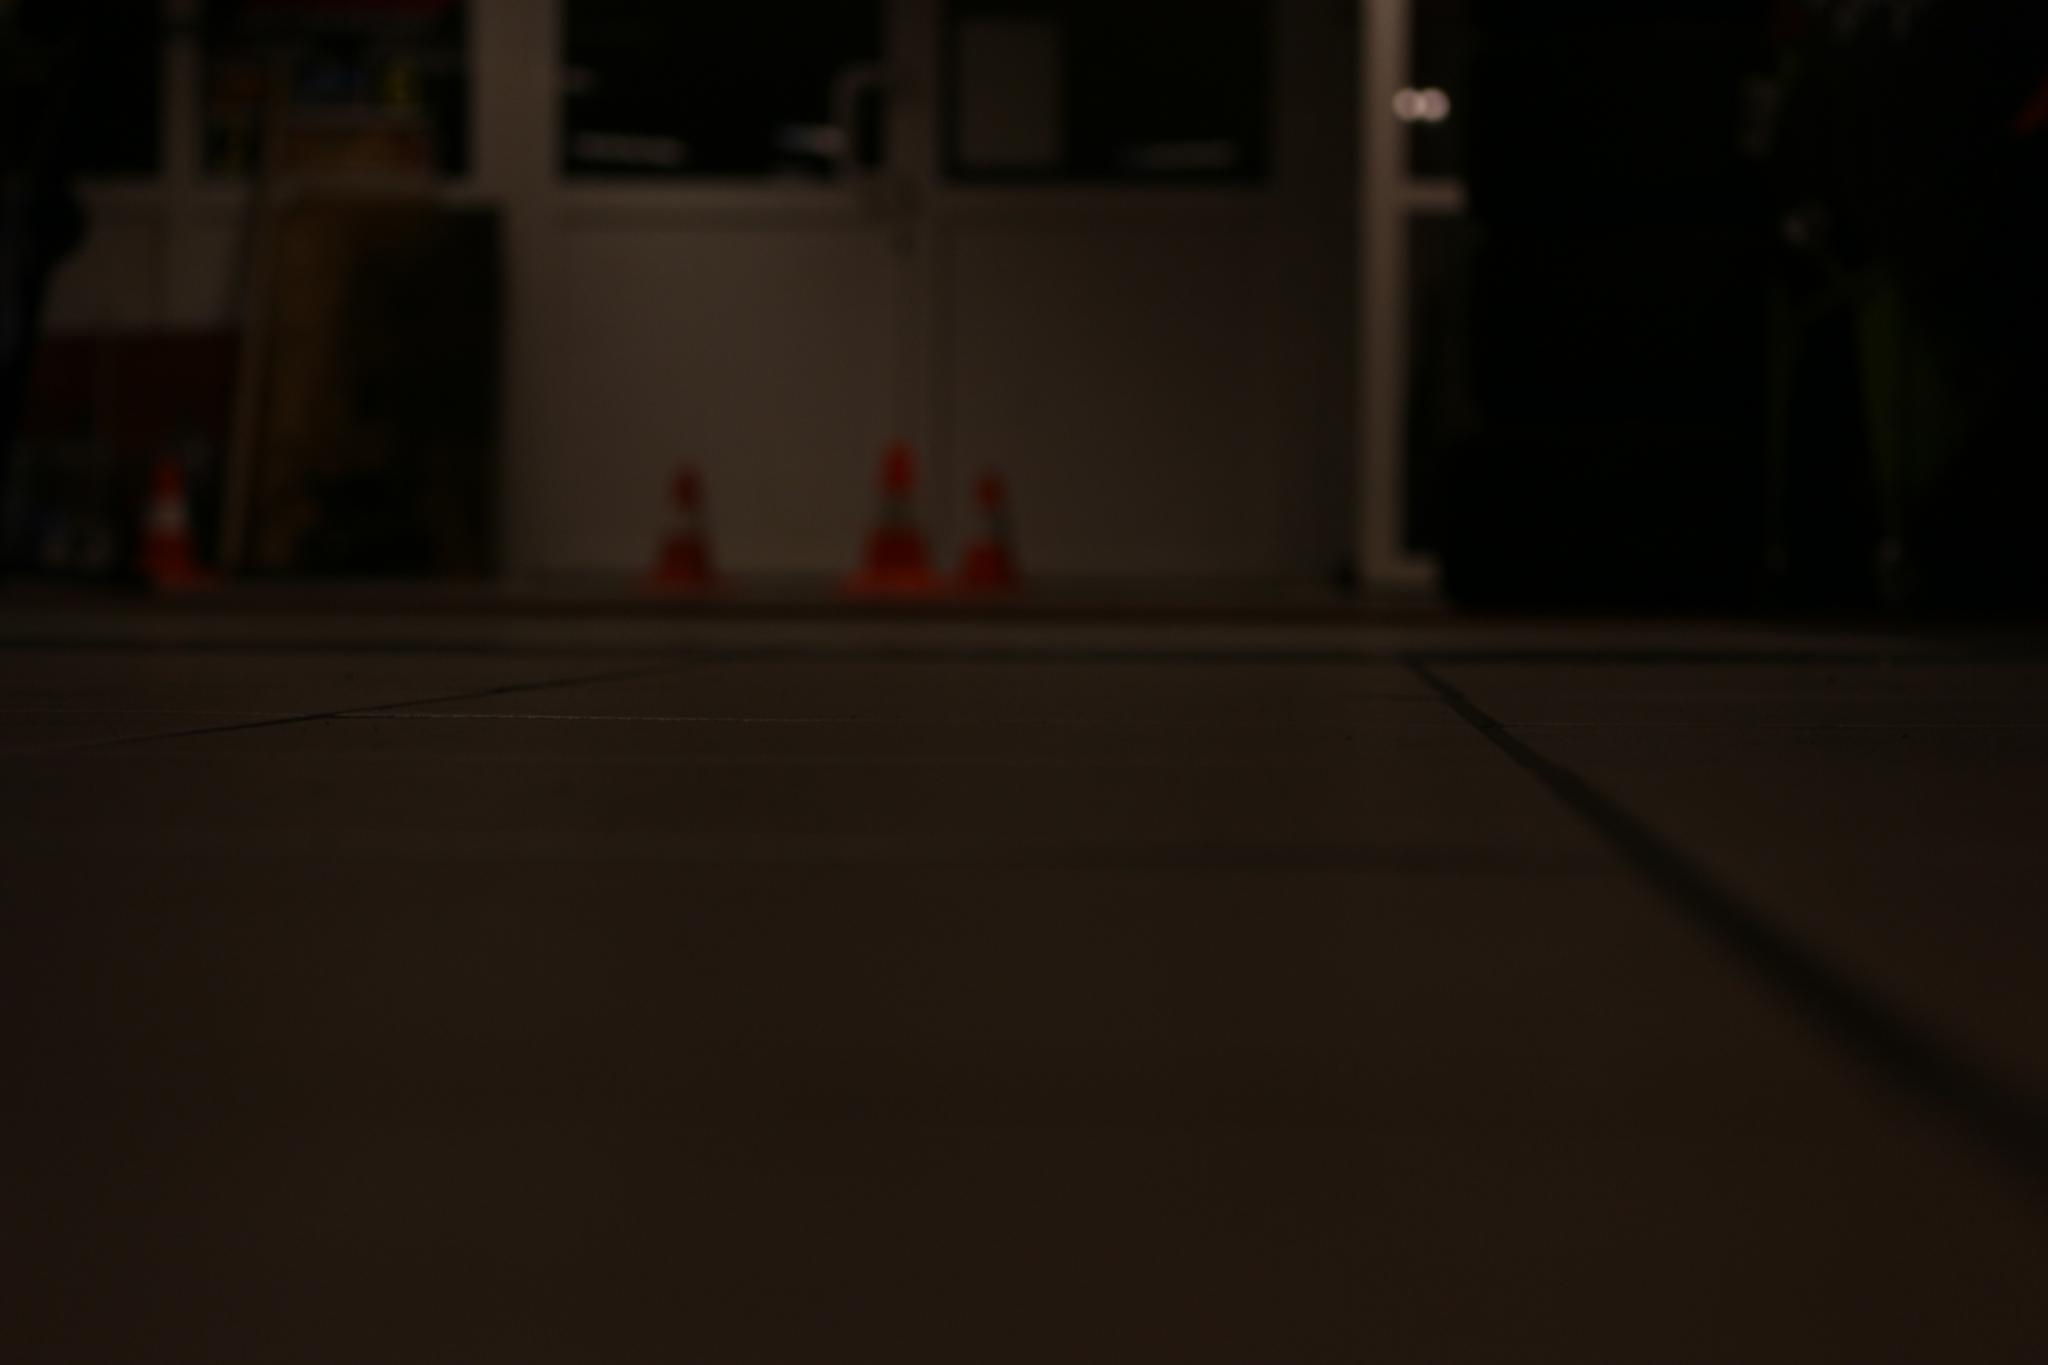Orange_Cone: (822, 422, 955, 603), (946, 443, 1049, 600), (123, 437, 216, 605), (629, 459, 731, 596)
